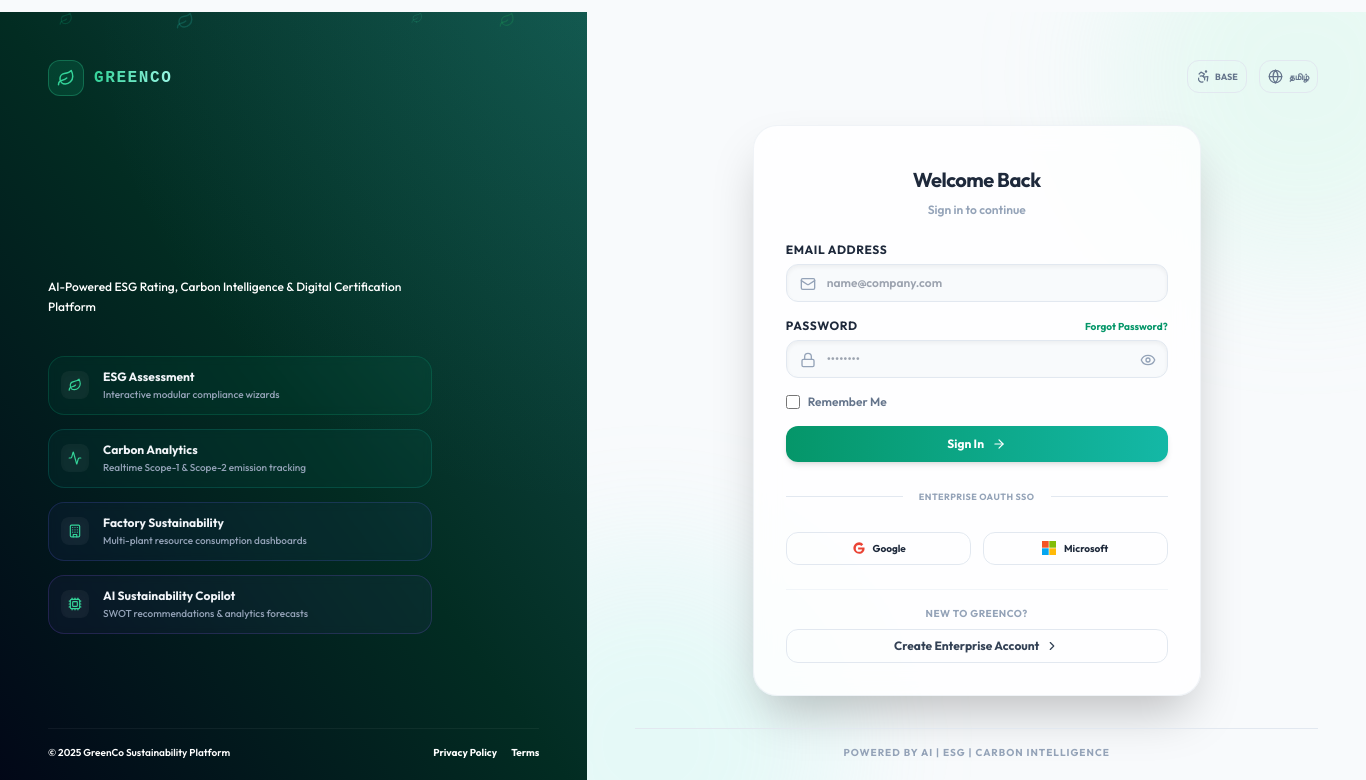
Test: LoginPage Component Tests › should display validation messages on empty submissions
The width and height of the screenshot is (1366, 780).
What coordinates should you click on to do the following:
click the button "Sign In"
I would click on:
 (977, 444)
Its box is [786,426,1168,462].
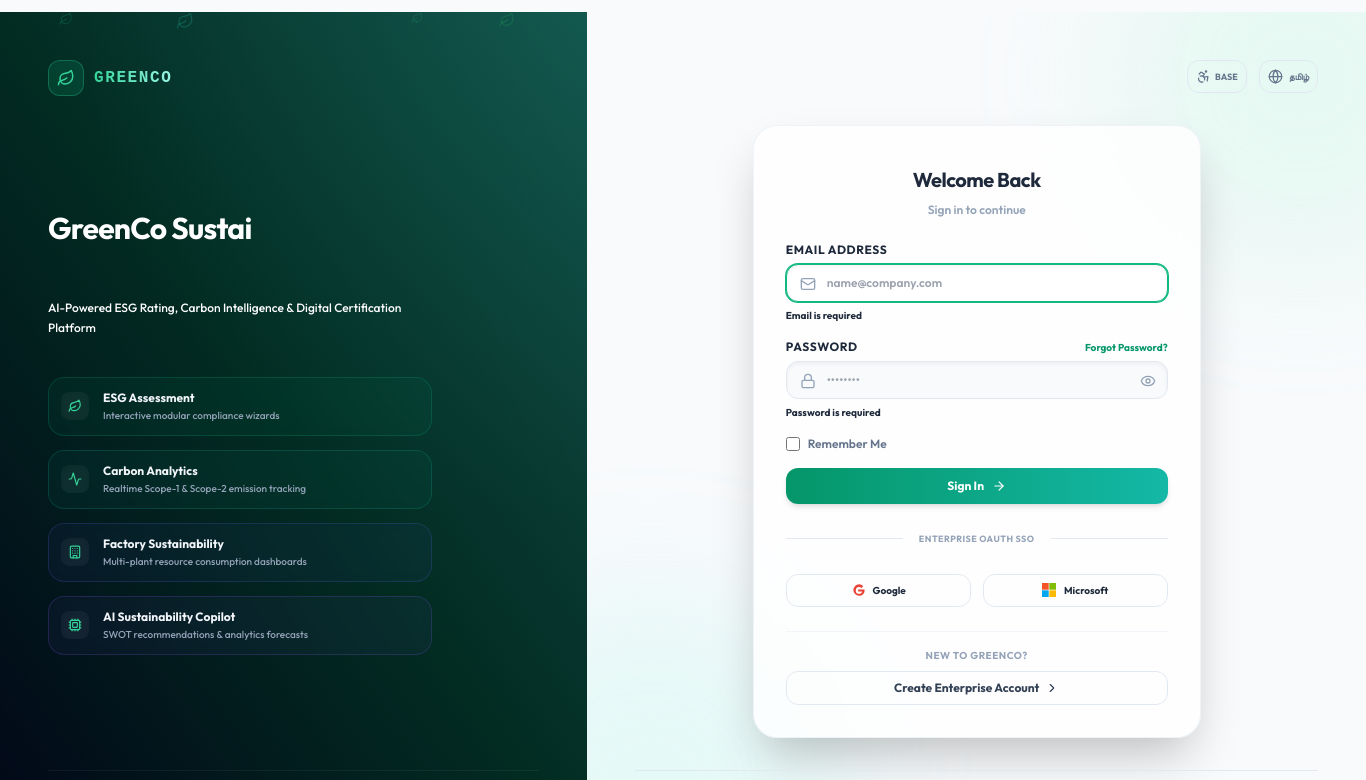
Result: the text "Email is required" is shown at [786,309,862,322]
Result: the text "Password is required" is shown at [786,406,881,419]
